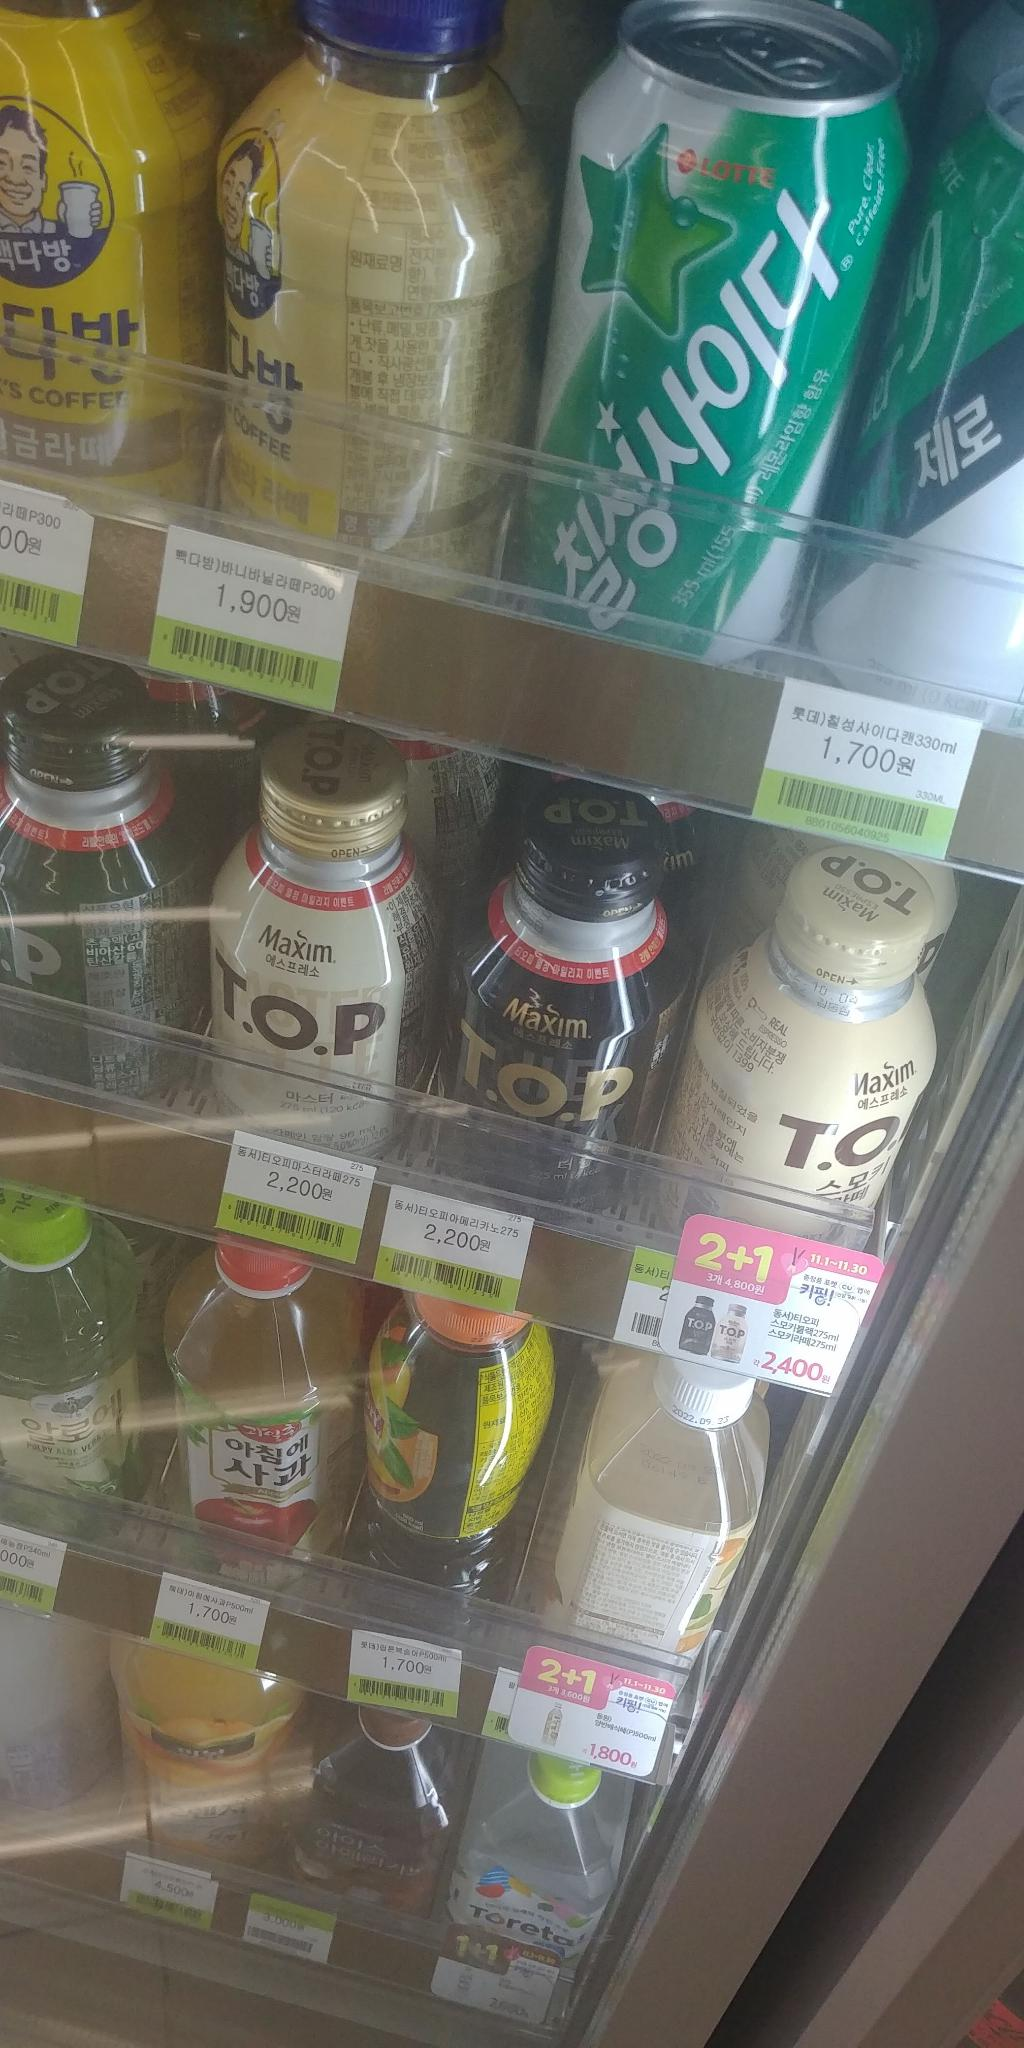TOP_black: (427, 751, 679, 1225)
chilsungcider: (495, 0, 913, 667)
